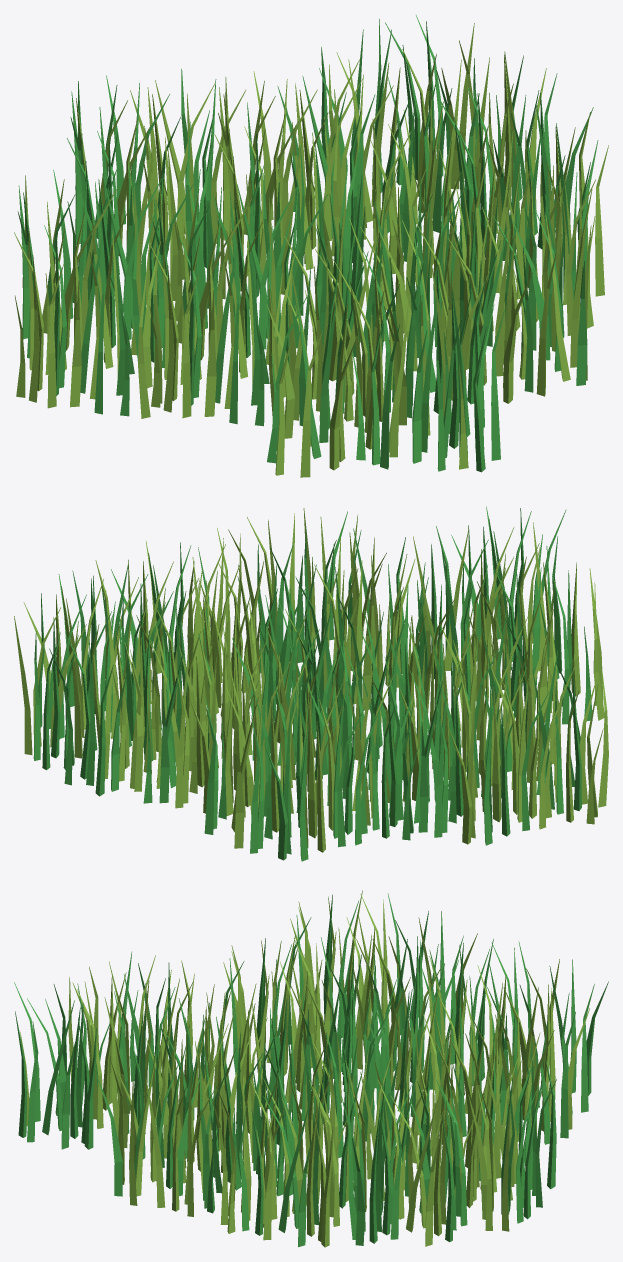
File: grass_patch.glb
The picture shows the model from 3 angles, top to bottom: view 1: azimuth 30°, elevation 25°; view 2: azimuth 150°, elevation 25°; view 3: azimuth 270°, elevation 25°; orthographic projection. The views are drawn at different scales.
Visible parts, largest first — view 1: Node_bcb6c5, Node_cecebe; view 2: Node_bcb6c5, Node_cecebe; view 3: Node_cecebe, Node_bcb6c5.
Part boxes in pixels (x1,y1,x2,y2): Node_bcb6c5: (14,23,608,477); Node_cecebe: (17,15,598,472); Node_bcb6c5: (14,508,608,852); Node_cecebe: (33,506,592,861); Node_cecebe: (14,893,608,1247); Node_bcb6c5: (20,890,589,1247).
Size of the model in its own units: 2.78 by 0.8967 by 2.84.
